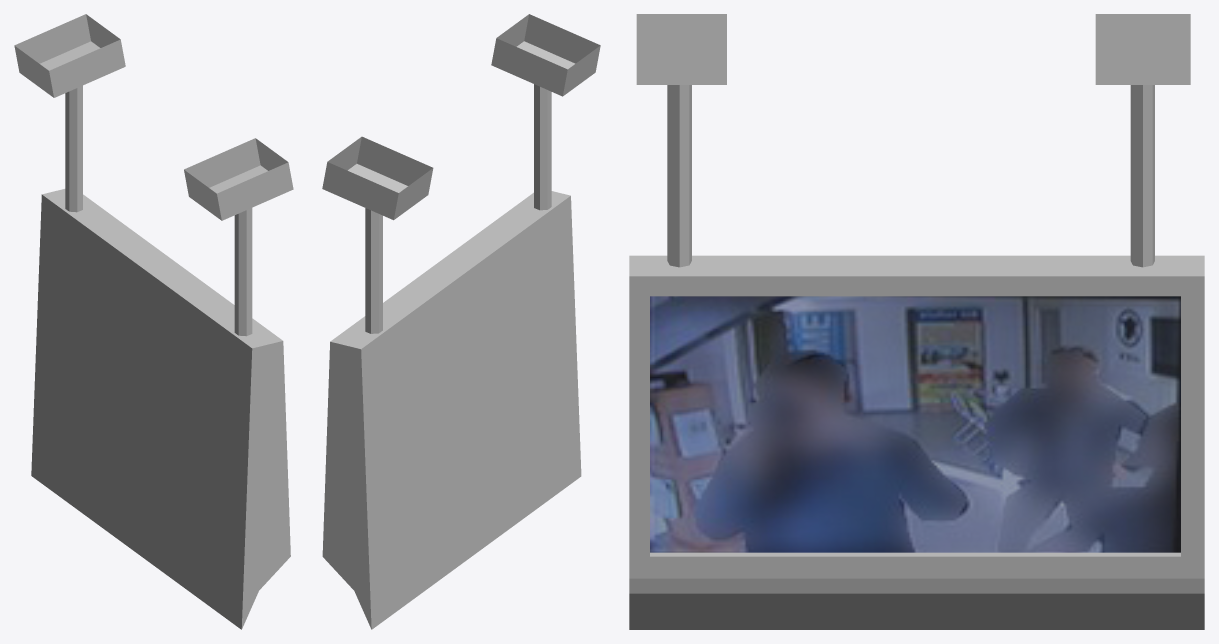
Rendered from PROPS_Corridor_02.fbx.
3 views of the same model, side by side, from view 1: azimuth 30°, elevation 25°; view 2: azimuth 150°, elevation 25°; view 3: azimuth 270°, elevation 25° (orthographic). The views are drawn at different scales.
Parts seen in each view (by area): view 1: pCube22; view 2: pCube22; view 3: pCube22.
Boxes of the visible parts, <box> form: pCube22: <box>14,14,293,629</box>; pCube22: <box>322,14,600,629</box>; pCube22: <box>629,14,1204,629</box>.
Bounding box in the file's own units: 0.2921 × 1.65 × 1.39.
